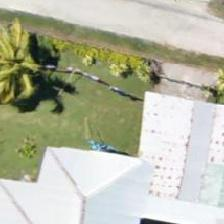coconut_tree: (0, 17, 58, 107)
